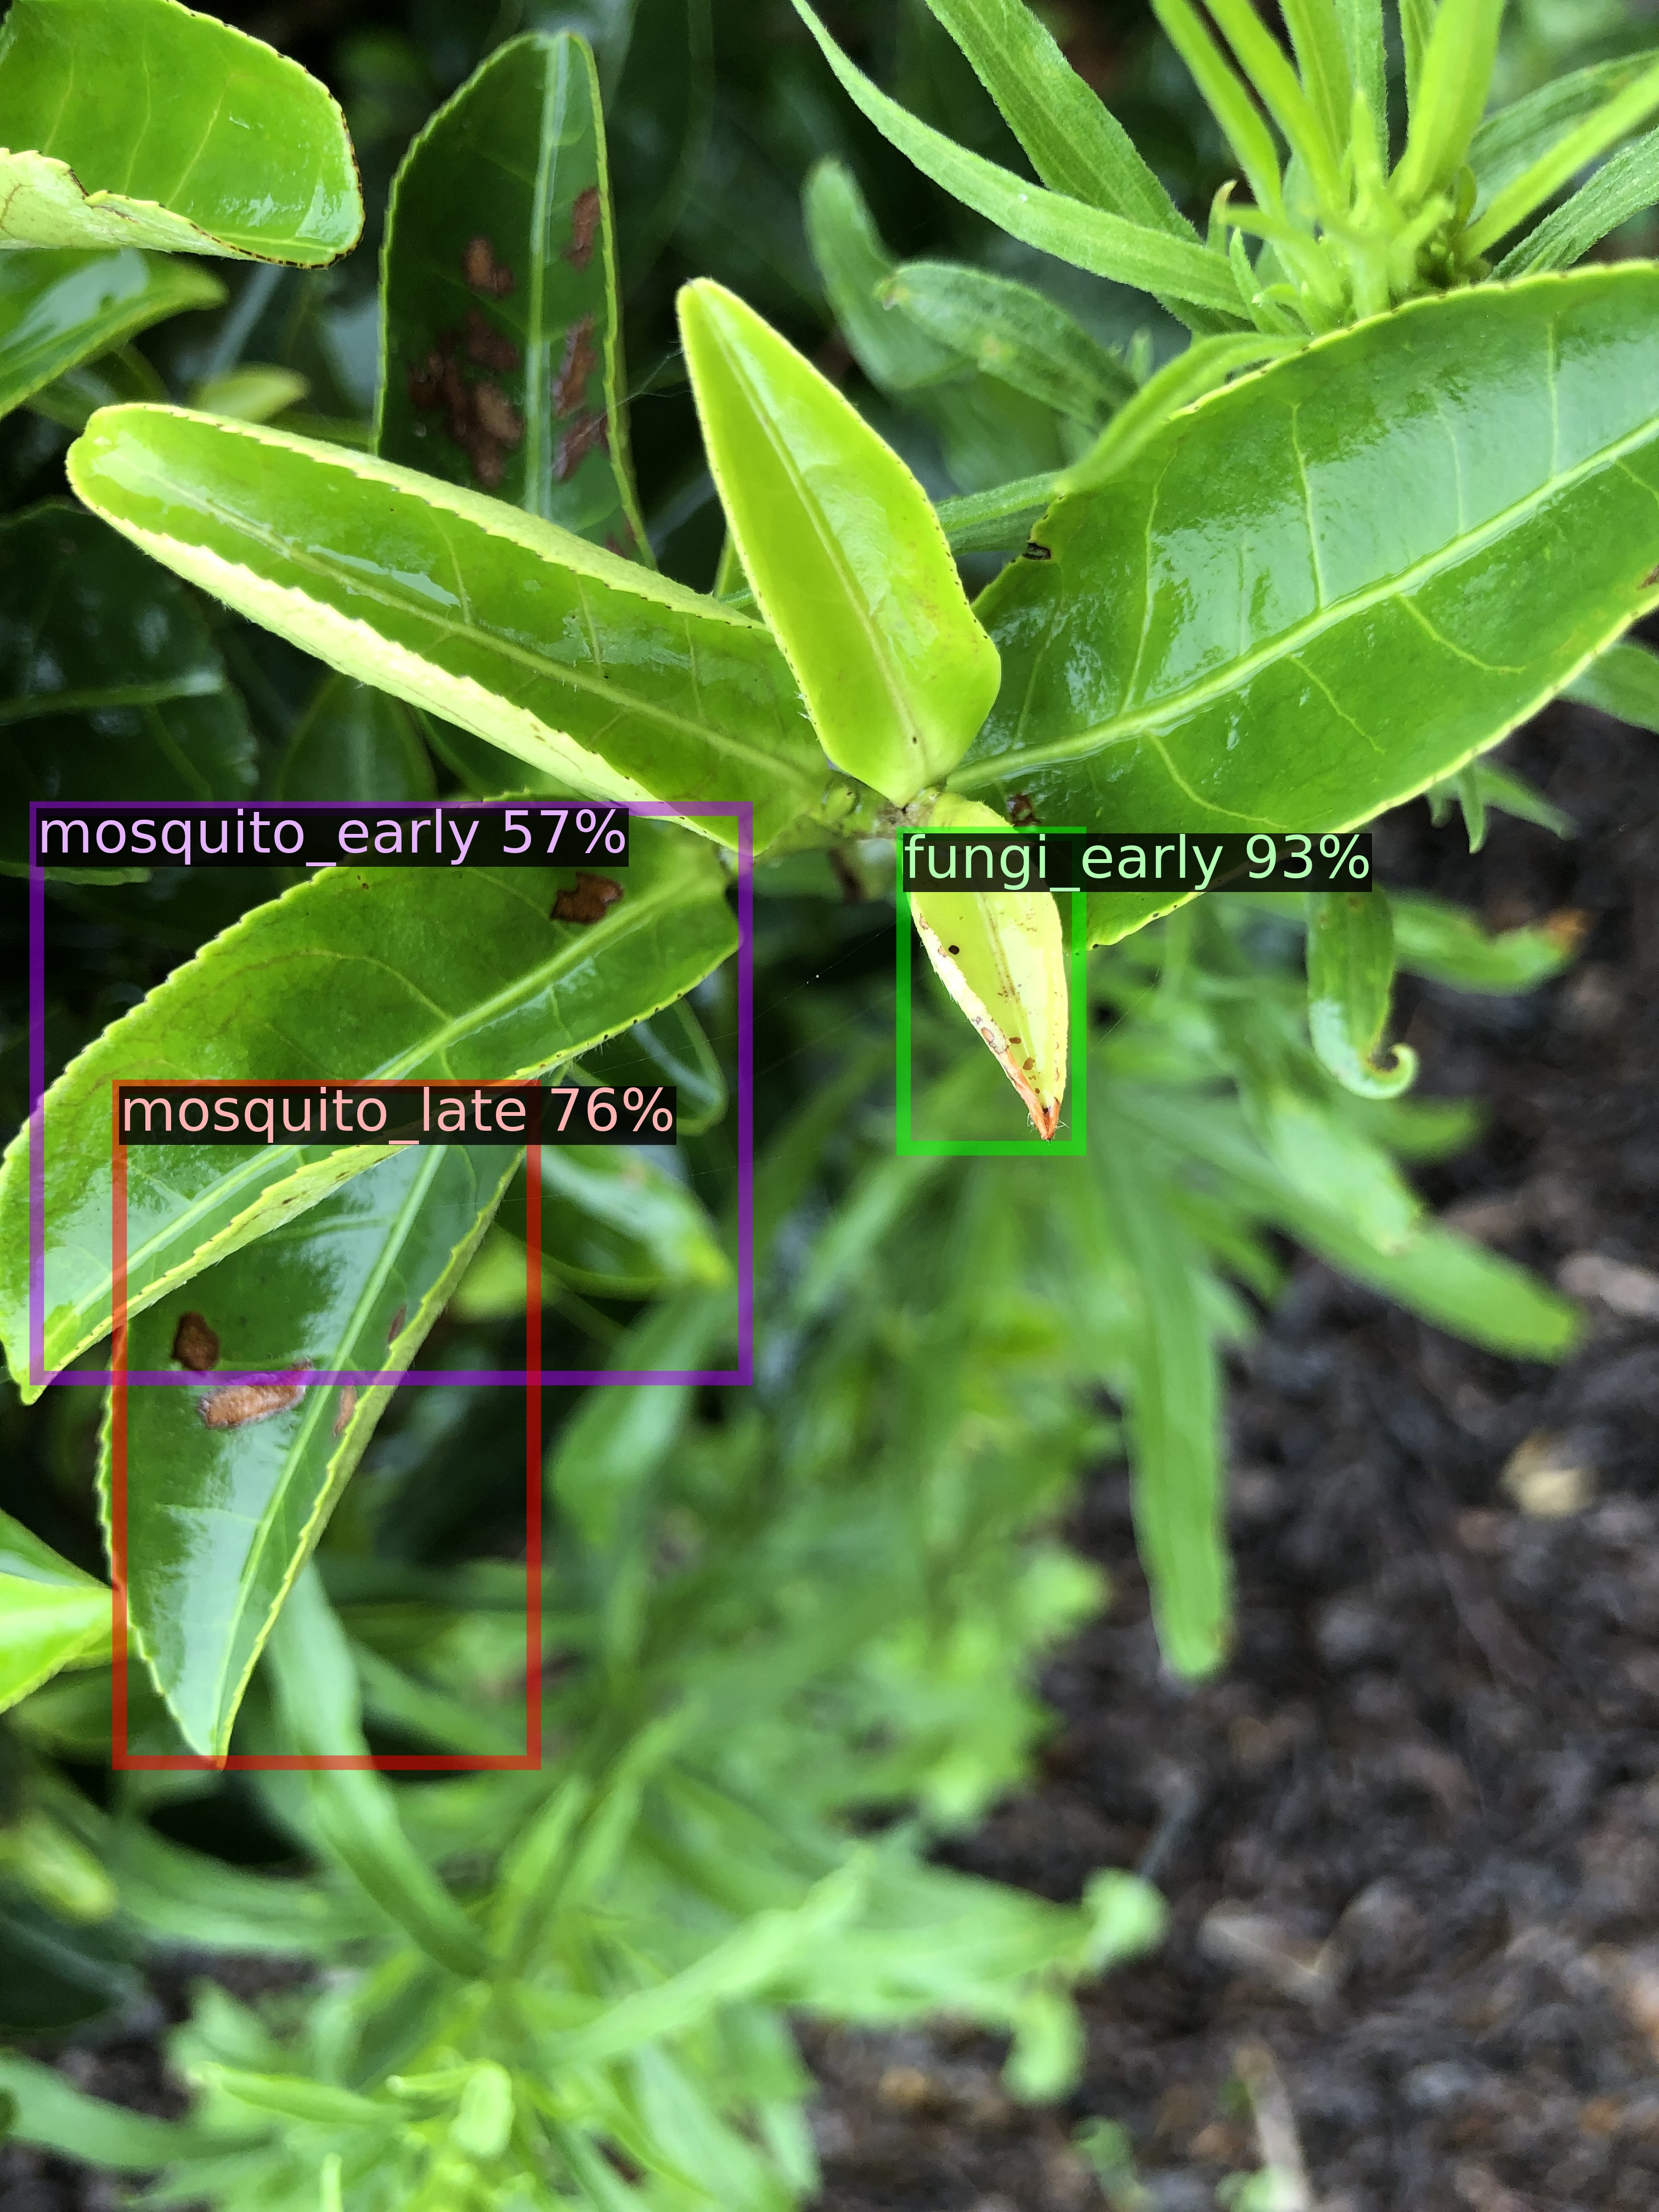fungi_early: (903, 834, 1079, 1148)
mosquito_early: (37, 808, 746, 1378)
mosquito_late: (120, 1087, 533, 1763)
